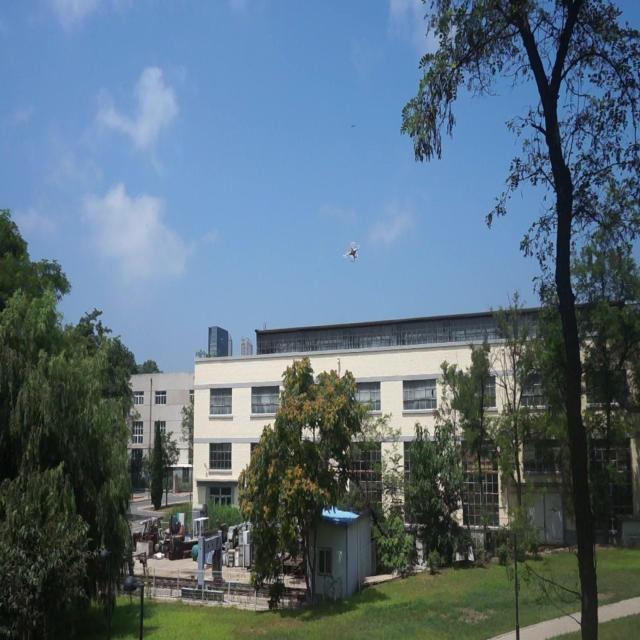drone: (342, 239, 363, 267)
